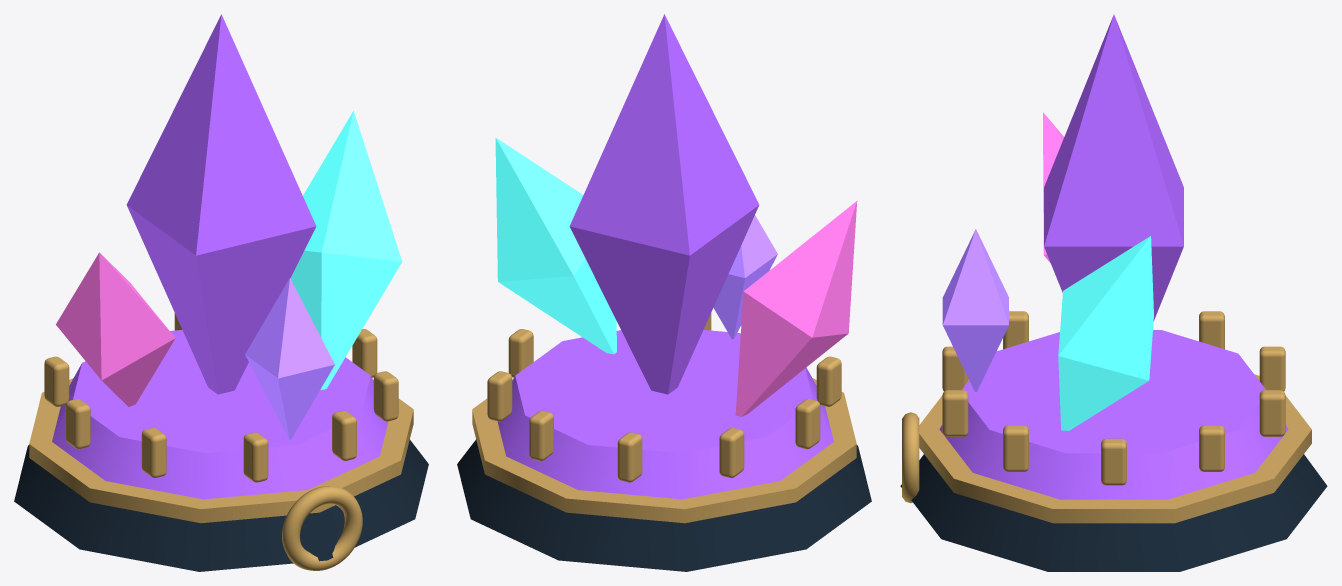
The model's file is brawl.glb.
3 views of the same model, side by side, from view 1: azimuth 30°, elevation 25°; view 2: azimuth 150°, elevation 25°; view 3: azimuth 270°, elevation 25° (orthographic).
Visible parts, largest first — view 1: Faceted crystal (×4), Crystal mount, Vault base, Ring housing, Panel (×7), Vault seal; view 2: Faceted crystal (×4), Crystal mount, Vault base, Ring housing, Panel (×7); view 3: Faceted crystal (×4), Crystal mount, Vault base, Ring housing, Panel (×9), Vault seal.
Part boxes in pixels (x1,y1,x2,y2): Faceted crystal (×4): [56, 14, 402, 439]; Crystal mount: [52, 330, 388, 499]; Vault base: [14, 439, 428, 571]; Ring housing: [29, 378, 413, 523]; Panel (×7): [44, 329, 398, 482]; Vault seal: [282, 486, 362, 570]; Faceted crystal (×4): [495, 14, 857, 416]; Crystal mount: [497, 330, 833, 499]; Vault base: [457, 439, 871, 571]; Ring housing: [472, 378, 856, 523]; Panel (×7): [487, 329, 841, 482]; Faceted crystal (×4): [942, 14, 1183, 430]; Crystal mount: [939, 330, 1288, 499]; Vault base: [900, 454, 1327, 571]; Ring housing: [919, 374, 1311, 523]; Panel (×9): [942, 311, 1285, 485]; Vault seal: [902, 412, 919, 503].
Size of the model in its own units: 1.56 by 2.05 by 1.64.
